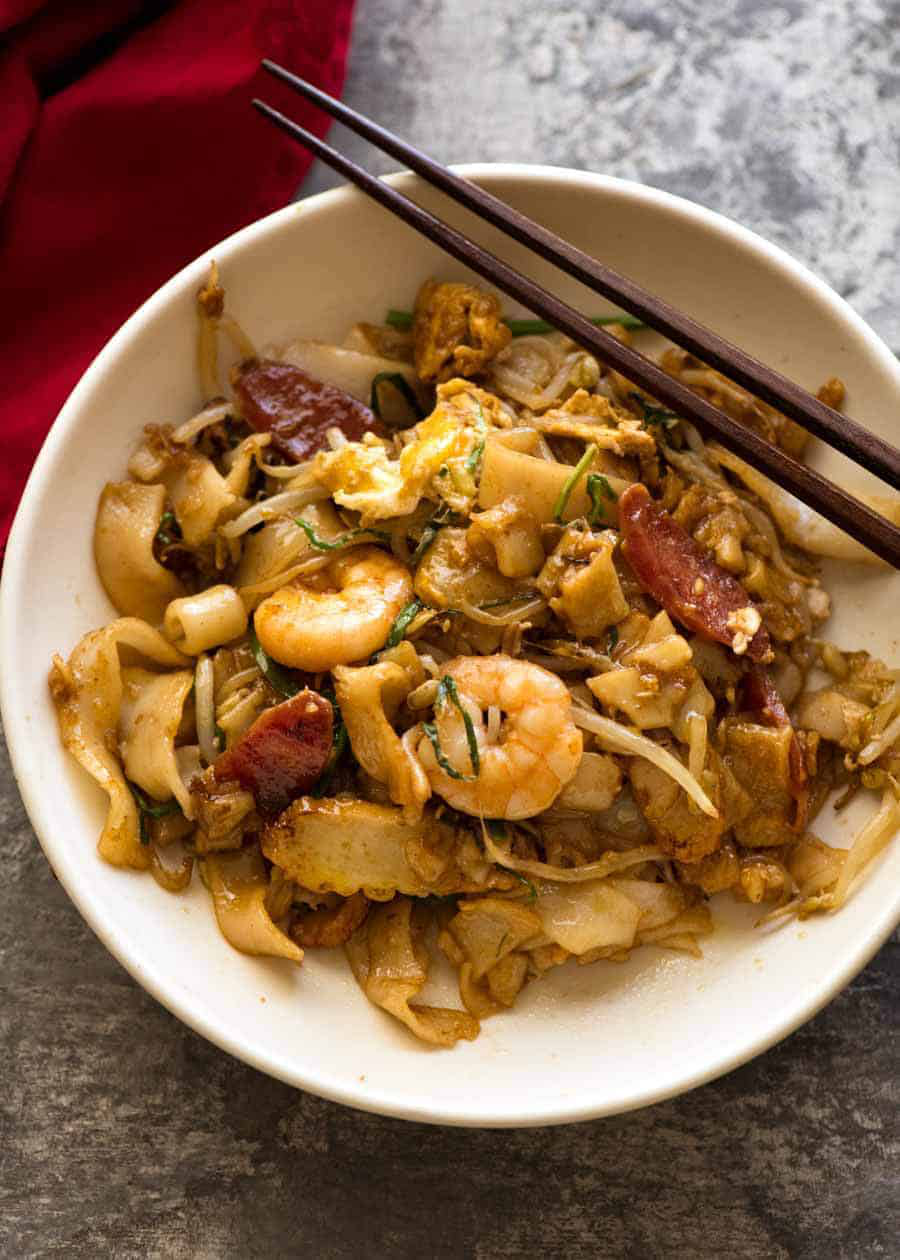Char Kway Teow: (119, 235, 871, 974)
